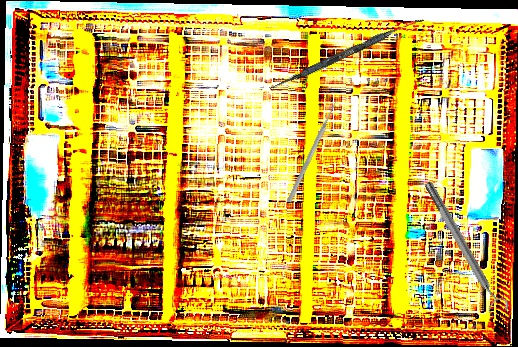Fixation Ring: (418, 176, 512, 320)
Pusher: (285, 97, 341, 204)
Spatula Surgical: (268, 12, 425, 95)
